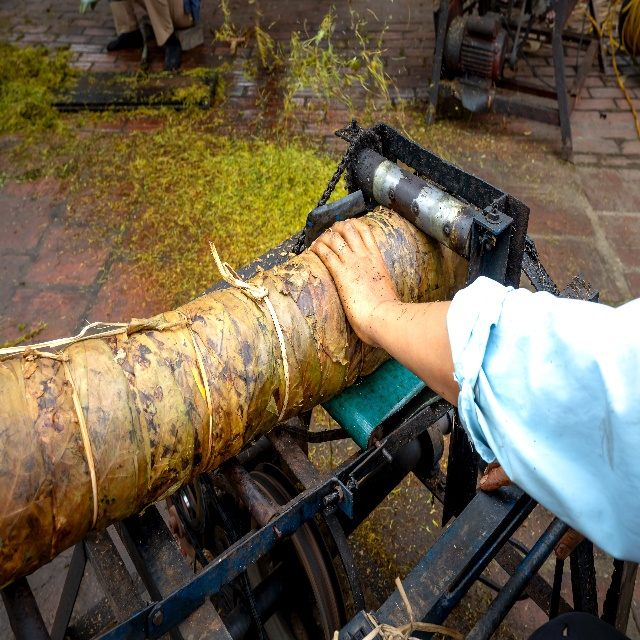Sin_guantes: (311, 216, 400, 348)
